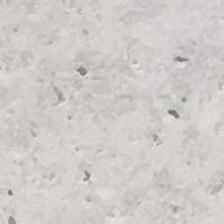Non_Crack: (13, 4, 139, 216)
